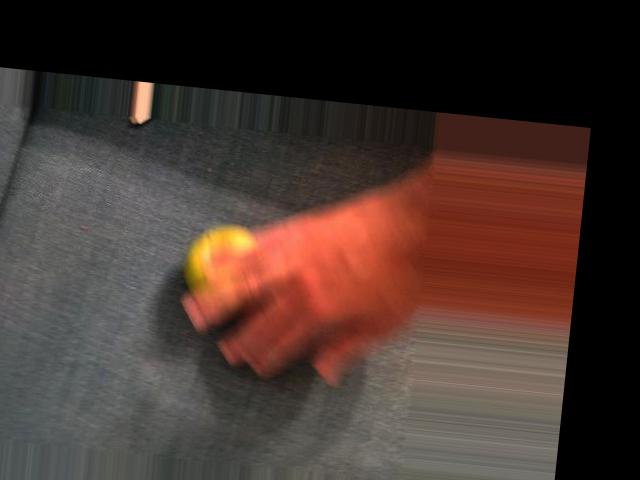apple: (171, 206, 293, 333)
